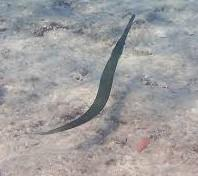Fistularia commersonii: (67, 8, 149, 150)
